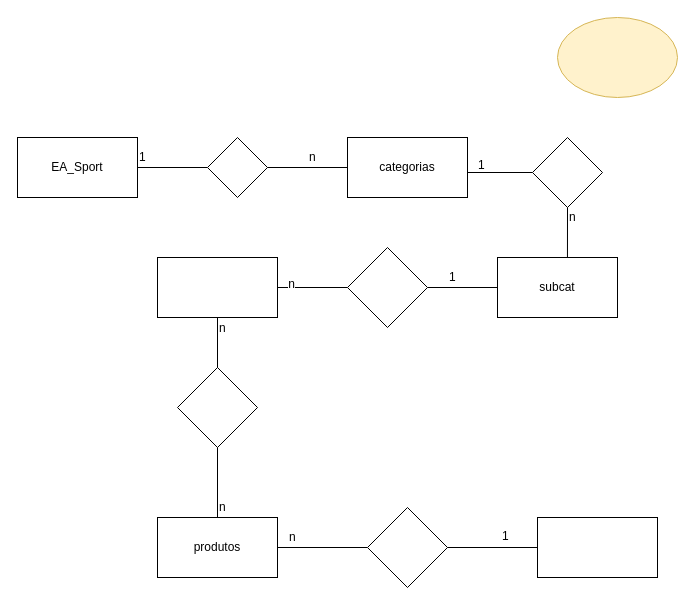
Some shapes in this 695 by 605 pixel diagram are drawn without their labels. Each missing label, with the centre of its shape:
"Conceitual" goes at point 617,57.
"pedido" goes at point 217,287.
